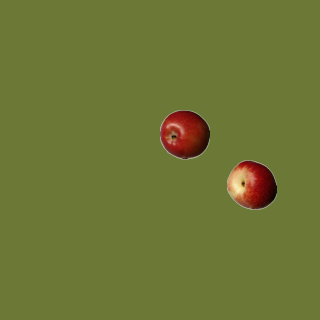Apple Braeburn: (159, 109, 209, 159)
Nectarine: (226, 159, 276, 209)
